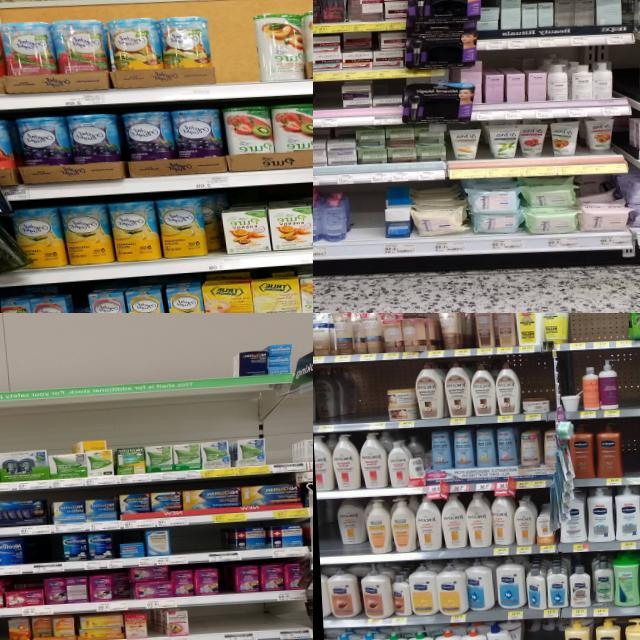100- O.O.S: (211, 14, 257, 98), (189, 603, 258, 640), (349, 188, 385, 256), (170, 525, 227, 564), (353, 366, 386, 431), (260, 600, 306, 640), (26, 534, 64, 574), (619, 422, 640, 484), (618, 357, 640, 416), (314, 82, 342, 128), (317, 506, 338, 564), (266, 434, 295, 473), (588, 313, 612, 349), (570, 313, 589, 349), (218, 562, 234, 603), (611, 313, 629, 348)
